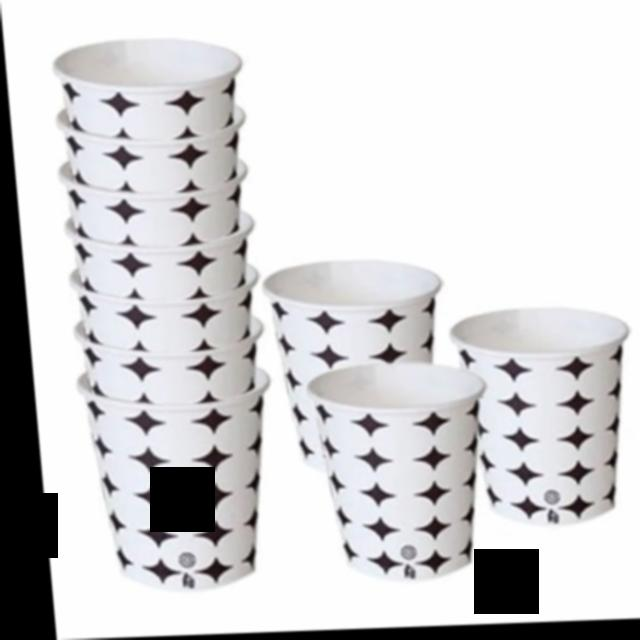karton-bardak: (46, 14, 272, 599), (261, 250, 640, 594)
